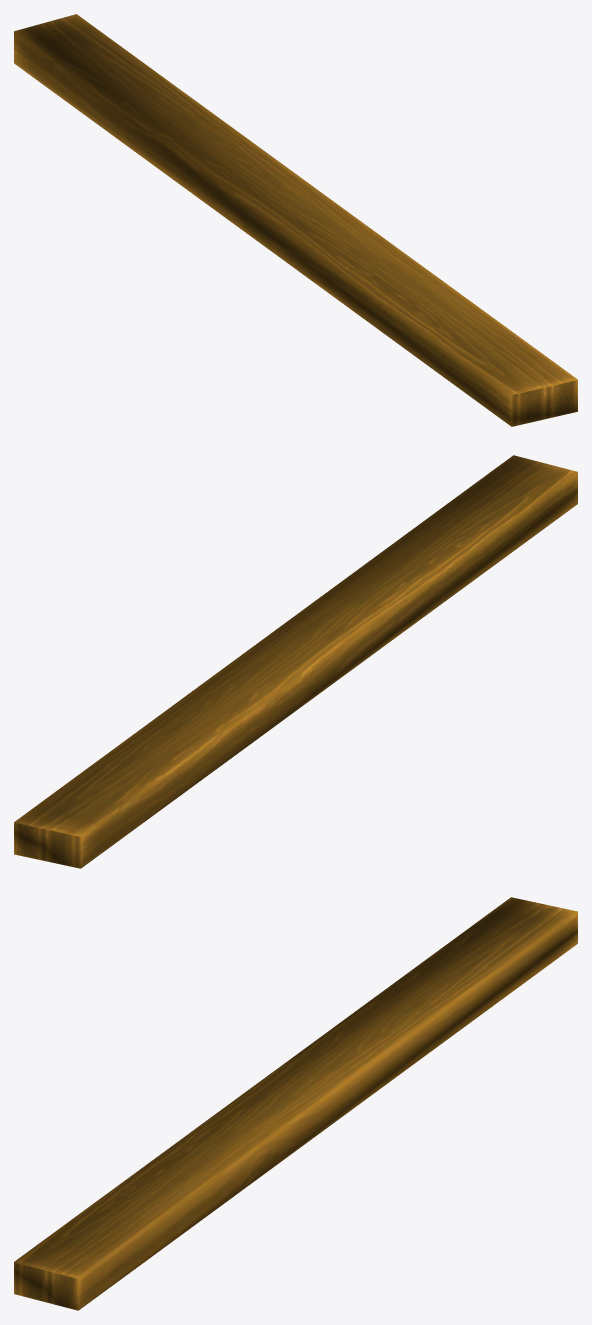
File: INST_HTOWN_BOARDA.fbx
The picture shows the model from 3 angles, top to bottom: view 1: azimuth 30°, elevation 25°; view 2: azimuth 150°, elevation 25°; view 3: azimuth 330°, elevation 25°; orthographic projection.
Parts seen in each view (by area): view 1: INST_HTOWN_BOARDA; view 2: INST_HTOWN_BOARDA; view 3: INST_HTOWN_BOARDA.
Boxes of the visible parts, <box> form: INST_HTOWN_BOARDA: <box>14,14,577,426</box>; INST_HTOWN_BOARDA: <box>14,455,577,868</box>; INST_HTOWN_BOARDA: <box>14,897,577,1310</box>.
Size of the model in its own units: 1532 by 711 by 20060.
1 material, 1 textured.
